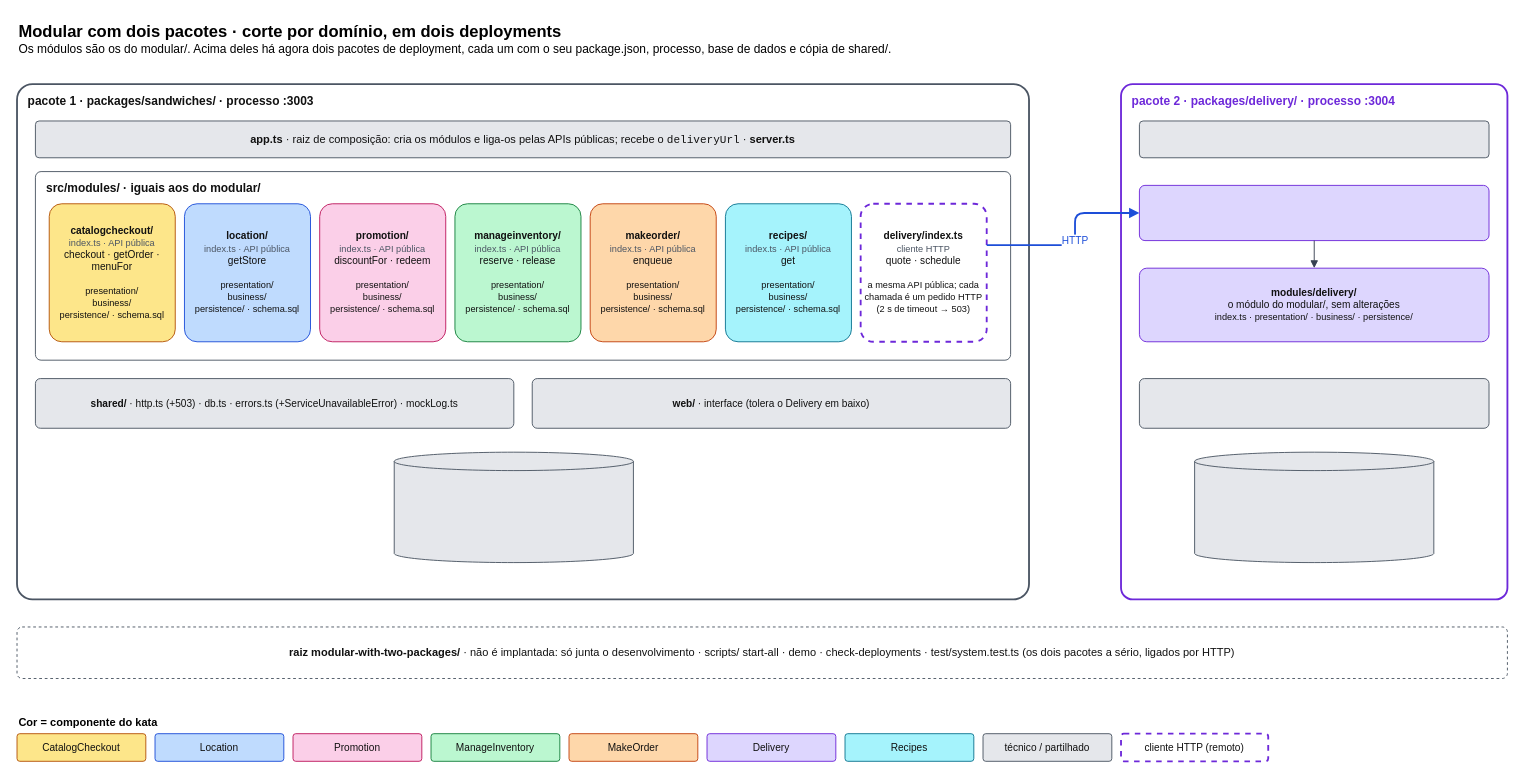
This 1524x777 diagram has some shape labels left out. Each missing label, with the centre of its shape:
"app.ts · server.ts" belongs at point 1313,139.
"data/delivery.db 2 tabelas" belongs at point 1314,507.
"data/silicon-sandwiches.db 13 tabelas" belongs at point 513,507.
"publicApi.ts POST /api/quotes · POST /api/deliveries" belongs at point 1313,212.
"shared/ · cópia de http.ts · db.ts · errors.ts" belongs at point 1313,403.
